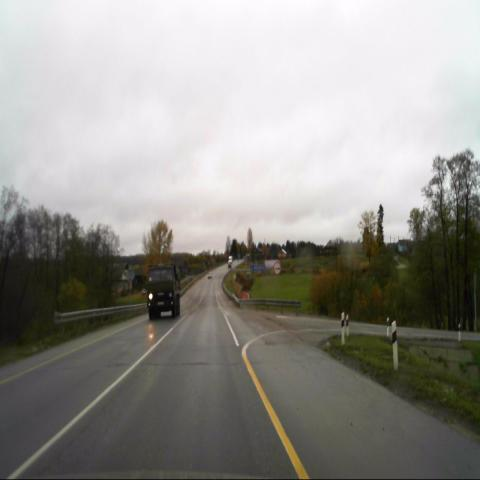3_20: (272, 261, 282, 276)
